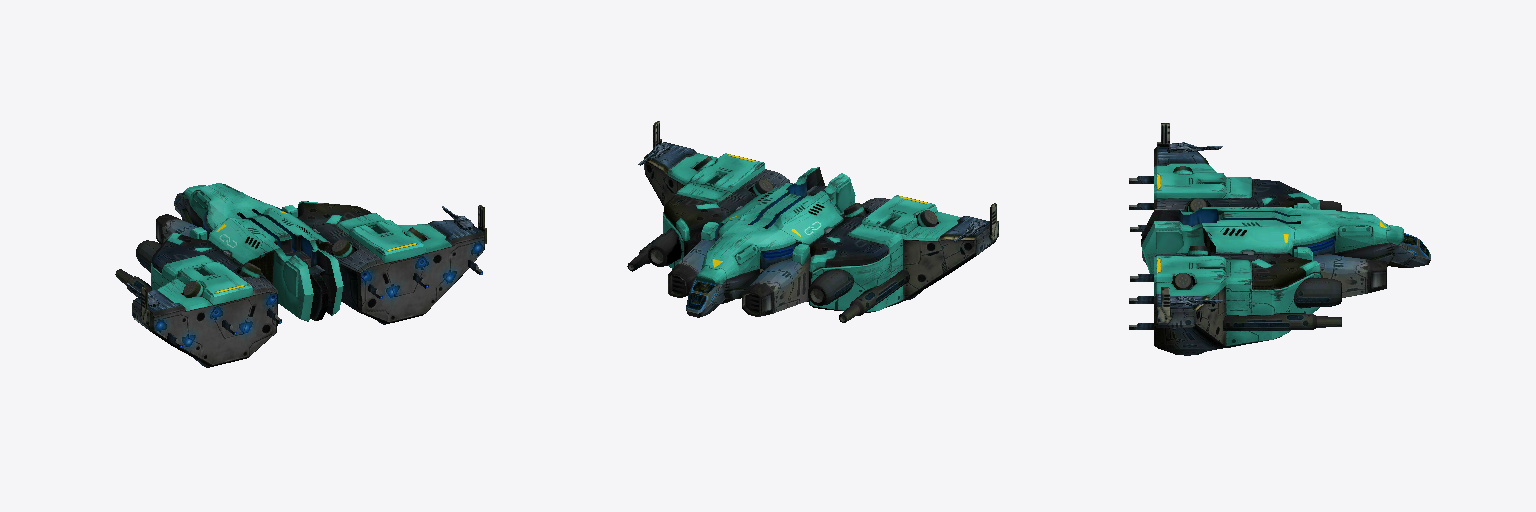
3 views of the same model, side by side, from view 1: azimuth 30°, elevation 25°; view 2: azimuth 150°, elevation 25°; view 3: azimuth 270°, elevation 25° (orthographic).
Parts seen in each view (by area): view 1: ship_tartarus; view 2: ship_tartarus; view 3: ship_tartarus.
Boxes of the visible parts, box(x1,y1,x2,y2) form: ship_tartarus: box(115, 183, 486, 367); ship_tartarus: box(627, 121, 998, 322); ship_tartarus: box(1129, 123, 1430, 355).
Size of the model in its own units: 132 by 37.73 by 102.
Materials: 1 (1 with a texture image).